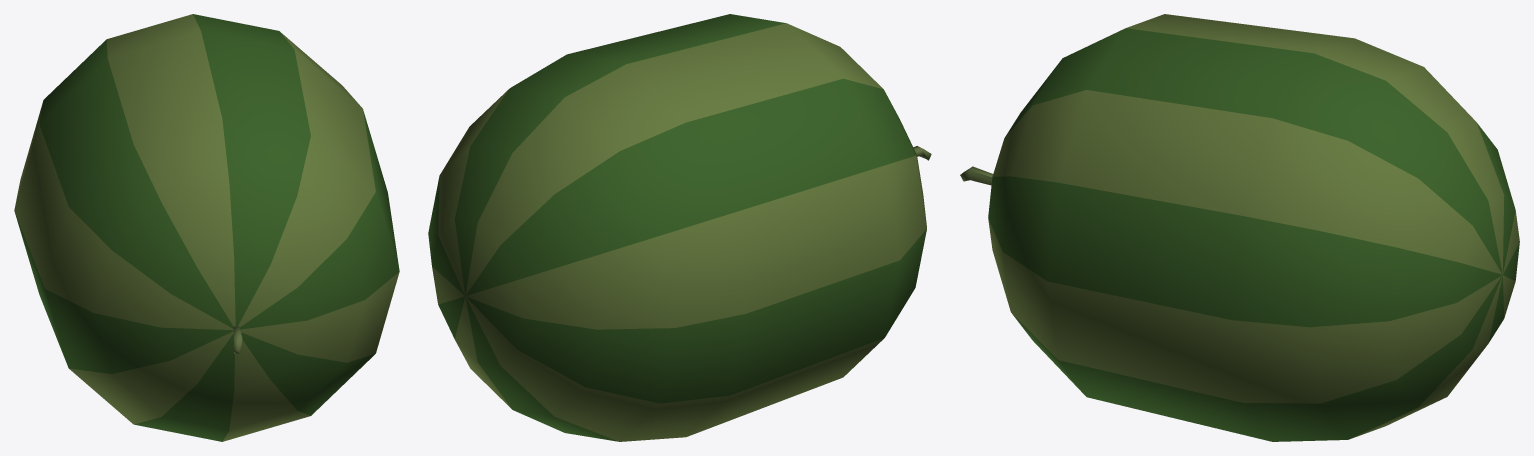
The model's file is green_08.glb.
3 views of the same model, side by side, from view 1: azimuth 30°, elevation 25°; view 2: azimuth 150°, elevation 25°; view 3: azimuth 270°, elevation 25° (orthographic). The views are drawn at different scales.
Visible parts, largest first — view 1: green_08; view 2: green_08; view 3: green_08.
Part boxes in pixels (box(x1,y1,x2,y2)): green_08: box(14, 14, 399, 441); green_08: box(428, 14, 931, 441); green_08: box(960, 14, 1519, 441).
Bounding box in the file's own units: 0.5167 × 0.4558 × 0.6187.
1 material, 1 textured.
